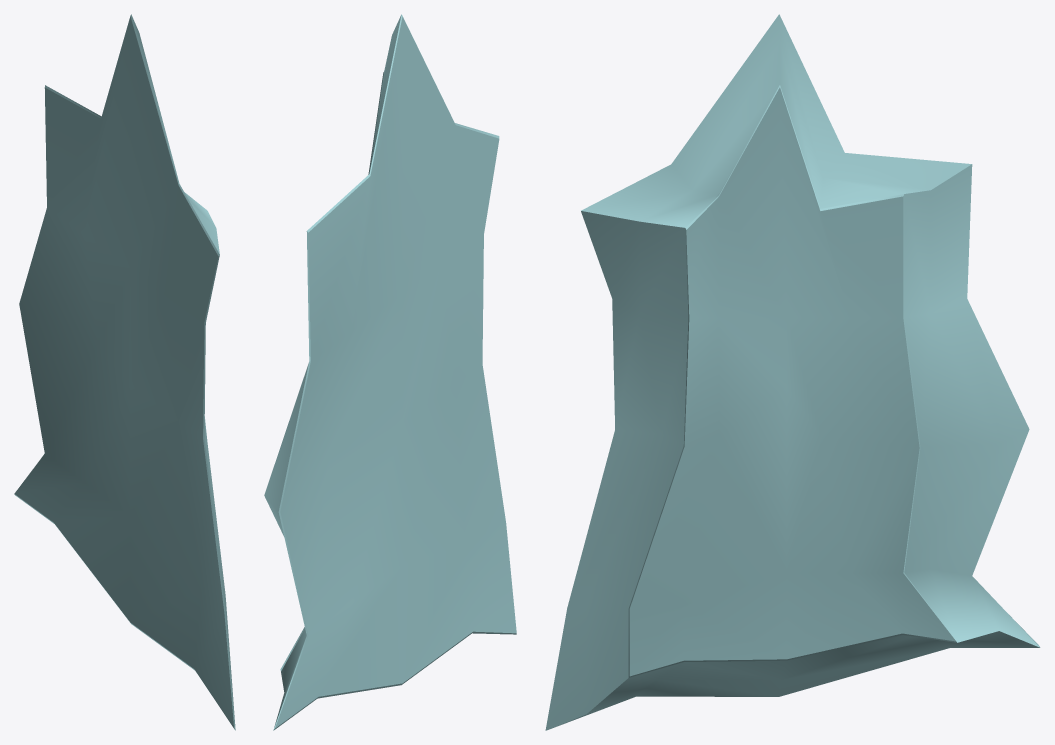
Rendered from IceSheet_05.fbx.
3 renders of one model, left to right at view 1: azimuth 30°, elevation 25°; view 2: azimuth 150°, elevation 25°; view 3: azimuth 270°, elevation 25°, orthographic. The views are drawn at different scales.
Visible parts, largest first — view 1: IceSheet_05; view 2: IceSheet_05; view 3: IceSheet_05.
Part boxes in pixels (box(x1,y1,x2,y2)): IceSheet_05: box(14, 14, 235, 730); IceSheet_05: box(264, 14, 516, 730); IceSheet_05: box(545, 14, 1040, 730).
Bounding box in the file's own units: 1023 × 17313 × 10834.
